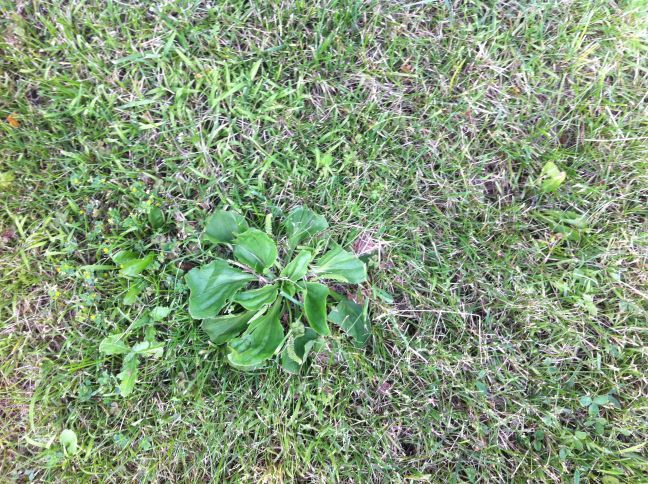weed1: (179, 205, 374, 377)
